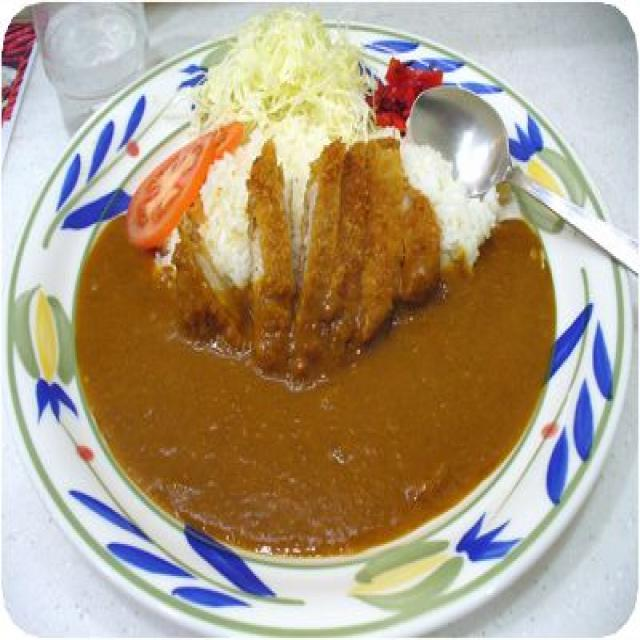猪肉菜式: (19, 26, 627, 614)
